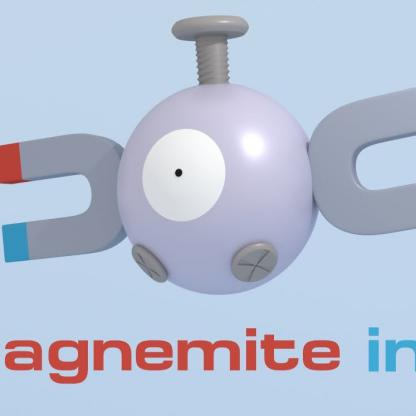Magnemite: (1, 14, 416, 306)
